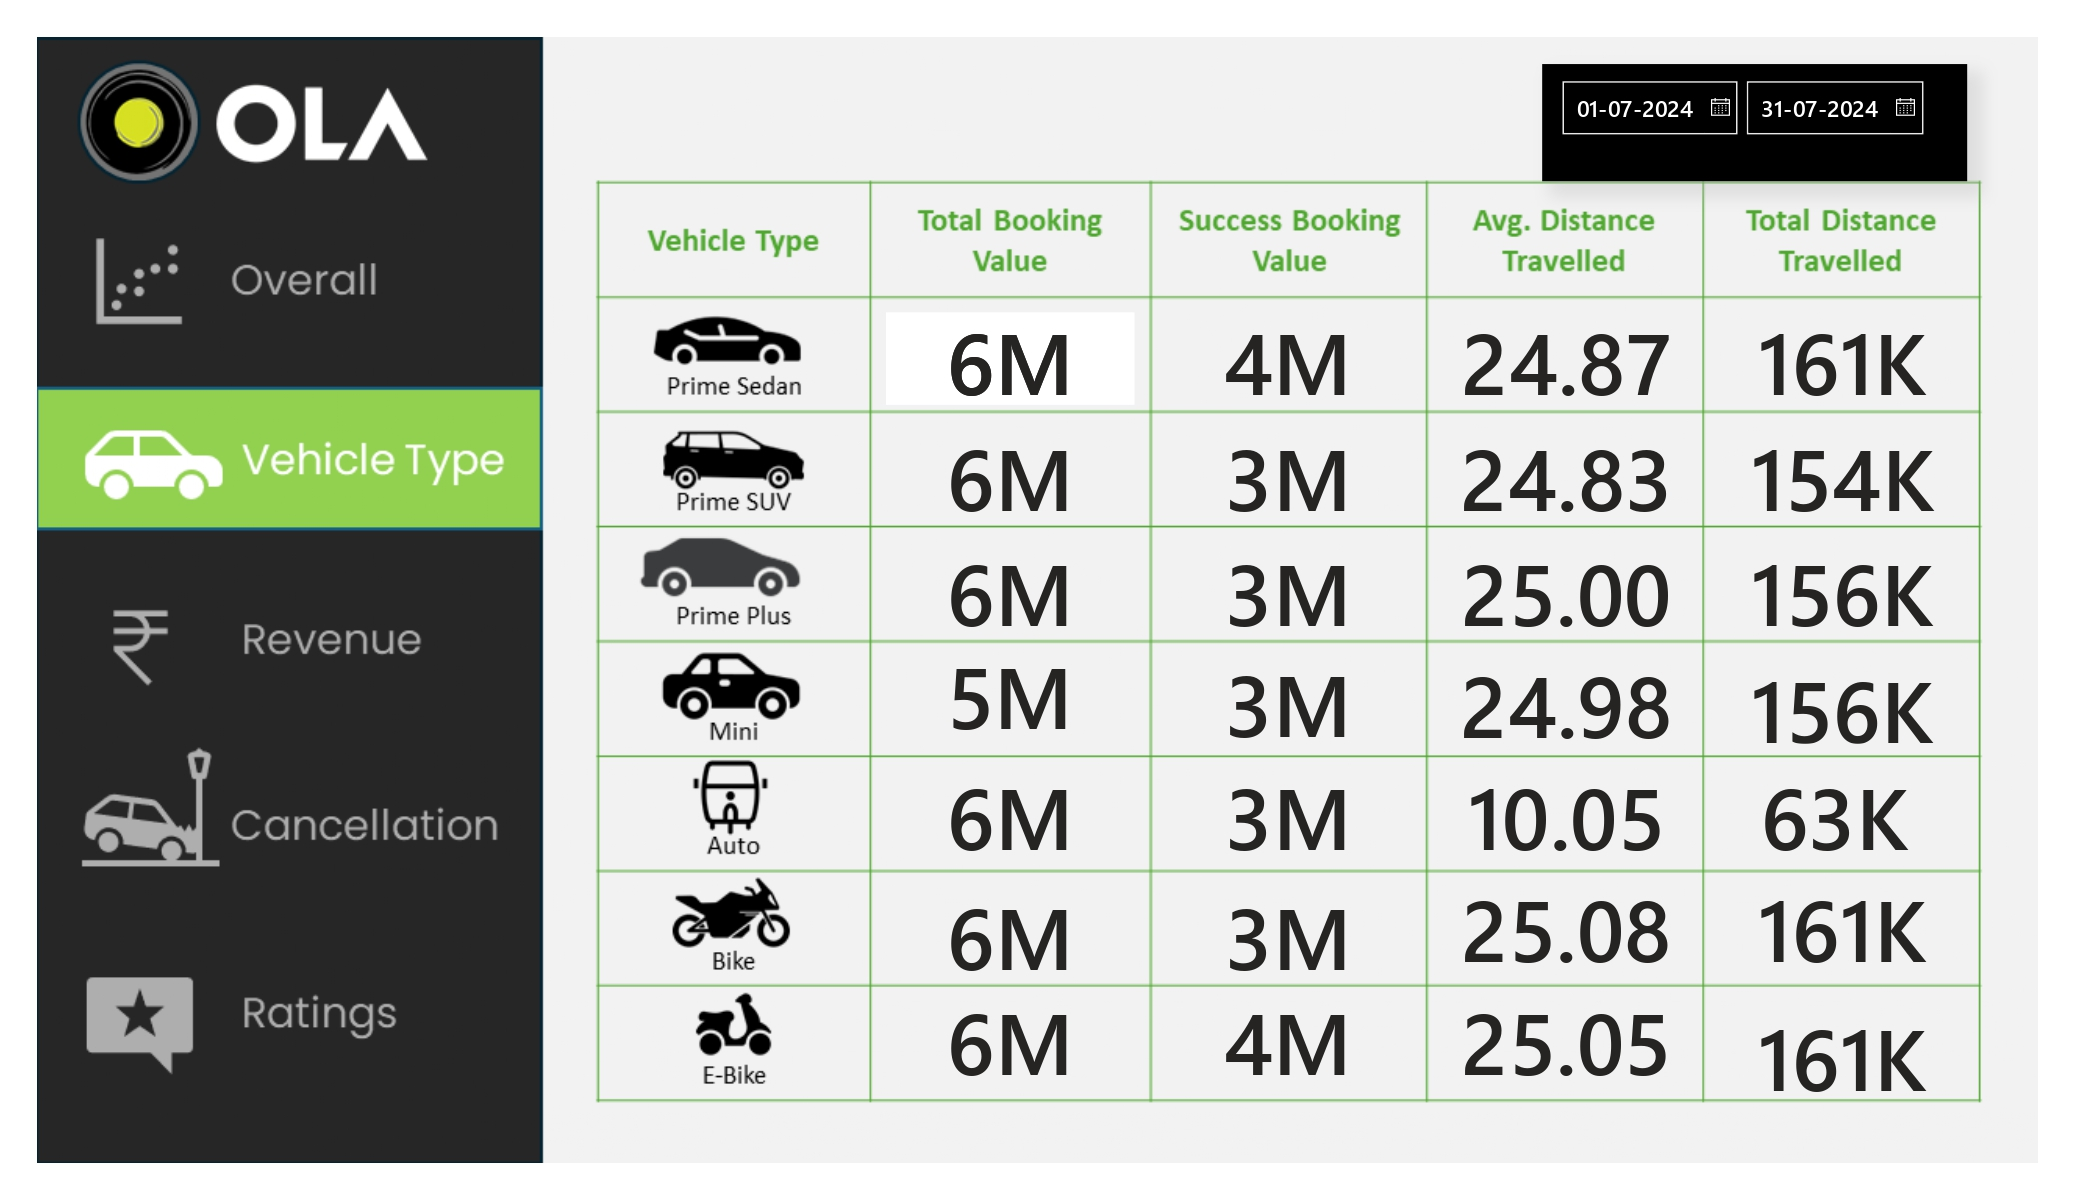

Layout of this report page (visuals, bound fields, positions):
{"tool":"powerbi","page":{"name":"Vehicle_type","canvas":[1280,720],"ordinal":1},"visuals":[{"type":"actionButton","box":[0,218.6,324.3,90],"z":0},{"type":"actionButton","box":[0,111.4,324.3,85.7],"z":1000},{"type":"actionButton","box":[0,580,324.3,90],"z":2000},{"type":"actionButton","box":[0,112,324.6,85],"z":3000},{"type":"actionButton","box":[0,342.9,324.3,90],"z":4000},{"type":"actionButton","box":[0,452.9,324.3,90],"z":5000},{"type":"actionButton","box":[10,590,324.3,90],"z":6000},{"type":"actionButton","box":[0,223.9,324.6,85],"z":7000},{"type":"actionButton","box":[0,447.9,324.6,90.7],"z":8000},{"type":"actionButton","box":[10,121.4,324.3,85.7],"z":9000},{"type":"actionButton","box":[0,337.3,324.6,90.7],"z":10000},{"type":"actionButton","box":[10,462.9,324.3,90],"z":11000},{"type":"actionButton","box":[0,594.3,324.3,90],"z":12000},{"type":"card","fields":{"Values":["Sum(Bookings.Booking_Value)"]},"box":[542.6,176.4,159.6,58.8],"z":13000},{"type":"card","fields":{"Values":["Sum(Bookings.Booking_Value)"]},"box":[542.6,176.4,159.6,58.8],"z":14000},{"type":"card","fields":{"Values":["Sum(Bookings.Booking_Value)"]},"box":[542.6,176.4,159.6,58.8],"z":15000},{"type":"card","fields":{"Values":["Sum(Bookings.Booking_Value)"]},"box":[542.6,389.7,159.6,58.8],"z":16000},{"type":"card","fields":{"Values":["Sum(Bookings.Booking_Value)"]},"box":[542.6,250.3,159.6,58.8],"z":17000},{"type":"card","fields":{"Values":["Sum(Bookings.Booking_Value)"]},"box":[542.6,324.2,159.6,58.8],"z":18000},{"type":"card","fields":{"Values":["Sum(Bookings.Booking_Value)"]},"box":[542.6,467,159.6,58.8],"z":19000},{"type":"card","fields":{"Values":["Sum(Bookings.Booking_Value)"]},"box":[542.6,544.3,159.6,58.8],"z":20000},{"type":"card","fields":{"Values":["Sum(Bookings.Booking_Value)"]},"box":[542.6,611.4,159.6,58.8],"z":21000},{"type":"card","fields":{"Values":["Sum(Bookings.Booking_Value)"]},"box":[720.6,176.4,159.6,58.8],"z":22000},{"type":"card","fields":{"Values":["Sum(Bookings.Booking_Value)"]},"box":[720.6,250.3,159.6,58.8],"z":23000},{"type":"card","fields":{"Values":["Sum(Bookings.Booking_Value)"]},"box":[720.6,324.2,159.6,58.8],"z":24000},{"type":"card","fields":{"Values":["Sum(Bookings.Booking_Value)"]},"box":[720.6,394.8,159.6,58.8],"z":25000},{"type":"card","fields":{"Values":["Sum(Bookings.Booking_Value)"]},"box":[720.6,467,159.6,58.8],"z":26000},{"type":"card","fields":{"Values":["Sum(Bookings.Booking_Value)"]},"box":[720.6,544.3,159.6,58.8],"z":27000},{"type":"card","fields":{"Values":["Sum(Bookings.Booking_Value)"]},"box":[720.6,611.4,159.6,58.8],"z":28000},{"type":"card","fields":{"Values":["Avg(Bookings.Ride_Distance)"]},"box":[898.7,324.2,159.6,58.8],"z":29000},{"type":"card","fields":{"Values":["Avg(Bookings.Ride_Distance)"]},"box":[898.7,250.3,159.6,58.8],"z":30000},{"type":"card","fields":{"Values":["Avg(Bookings.Ride_Distance)"]},"box":[898.7,176.4,159.6,58.8],"z":31000},{"type":"card","fields":{"Values":["Avg(Bookings.Ride_Distance)"]},"box":[898.7,396.4,159.6,57.1],"z":32000},{"type":"card","fields":{"Values":["Avg(Bookings.Ride_Distance)"]},"box":[898.7,467,159.6,58.8],"z":33000},{"type":"card","fields":{"Values":["Avg(Bookings.Ride_Distance)"]},"box":[898.7,539.2,159.6,58.8],"z":34000},{"type":"card","fields":{"Values":["Avg(Bookings.Ride_Distance)"]},"box":[898.7,611.4,159.6,58.8],"z":35000},{"type":"card","fields":{"Values":["Sum(Bookings.Ride_Distance)"]},"box":[1075.1,176.4,159.6,58.8],"z":36000},{"type":"card","fields":{"Values":["Sum(Bookings.Ride_Distance)"]},"box":[1075.1,250.3,159.6,58.8],"z":37000},{"type":"card","fields":{"Values":["Sum(Bookings.Ride_Distance)"]},"box":[1075.1,324.2,159.6,58.8],"z":38000},{"type":"card","fields":{"Values":["Sum(Bookings.Ride_Distance)"]},"box":[1075.1,399.8,159.6,57.1],"z":39000},{"type":"card","fields":{"Values":["Sum(Bookings.Ride_Distance)"]},"box":[1070,467,159.6,58.8],"z":40000},{"type":"card","fields":{"Values":["Sum(Bookings.Ride_Distance)"]},"box":[1075.1,539.2,159.6,58.8],"z":41000},{"type":"card","fields":{"Values":["Sum(Bookings.Ride_Distance)"]},"box":[1075.1,621.5,159.6,58.8],"z":42000},{"type":"slicer","title":"Date","fields":{"Values":["Bookings.Date"]},"box":[962.5,16.8,272.1,75.6],"z":43000}]}

Visuals, with their boxes on the page's 1280x720 design canvas (x1, y1, x2, y2). These are canvas units, not pixel positions in the 2075x1200 screenshot, which may show the page scaled, cropped or inside an application window:
actionButton: left=0, top=219, right=324, bottom=309
actionButton: left=0, top=111, right=324, bottom=197
actionButton: left=0, top=580, right=324, bottom=670
actionButton: left=0, top=112, right=325, bottom=197
actionButton: left=0, top=343, right=324, bottom=433
actionButton: left=0, top=453, right=324, bottom=543
actionButton: left=10, top=590, right=334, bottom=680
actionButton: left=0, top=224, right=325, bottom=309
actionButton: left=0, top=448, right=325, bottom=539
actionButton: left=10, top=121, right=334, bottom=207
actionButton: left=0, top=337, right=325, bottom=428
actionButton: left=10, top=463, right=334, bottom=553
actionButton: left=0, top=594, right=324, bottom=684
card - Sum(Bookings.Booking_Value): left=543, top=176, right=702, bottom=235
card - Sum(Bookings.Booking_Value): left=543, top=176, right=702, bottom=235
card - Sum(Bookings.Booking_Value): left=543, top=176, right=702, bottom=235
card - Sum(Bookings.Booking_Value): left=543, top=390, right=702, bottom=448
card - Sum(Bookings.Booking_Value): left=543, top=250, right=702, bottom=309
card - Sum(Bookings.Booking_Value): left=543, top=324, right=702, bottom=383
card - Sum(Bookings.Booking_Value): left=543, top=467, right=702, bottom=526
card - Sum(Bookings.Booking_Value): left=543, top=544, right=702, bottom=603
card - Sum(Bookings.Booking_Value): left=543, top=611, right=702, bottom=670
card - Sum(Bookings.Booking_Value): left=721, top=176, right=880, bottom=235
card - Sum(Bookings.Booking_Value): left=721, top=250, right=880, bottom=309
card - Sum(Bookings.Booking_Value): left=721, top=324, right=880, bottom=383
card - Sum(Bookings.Booking_Value): left=721, top=395, right=880, bottom=454
card - Sum(Bookings.Booking_Value): left=721, top=467, right=880, bottom=526
card - Sum(Bookings.Booking_Value): left=721, top=544, right=880, bottom=603
card - Sum(Bookings.Booking_Value): left=721, top=611, right=880, bottom=670
card - Avg(Bookings.Ride_Distance): left=899, top=324, right=1058, bottom=383
card - Avg(Bookings.Ride_Distance): left=899, top=250, right=1058, bottom=309
card - Avg(Bookings.Ride_Distance): left=899, top=176, right=1058, bottom=235
card - Avg(Bookings.Ride_Distance): left=899, top=396, right=1058, bottom=454
card - Avg(Bookings.Ride_Distance): left=899, top=467, right=1058, bottom=526
card - Avg(Bookings.Ride_Distance): left=899, top=539, right=1058, bottom=598
card - Avg(Bookings.Ride_Distance): left=899, top=611, right=1058, bottom=670
card - Sum(Bookings.Ride_Distance): left=1075, top=176, right=1235, bottom=235
card - Sum(Bookings.Ride_Distance): left=1075, top=250, right=1235, bottom=309
card - Sum(Bookings.Ride_Distance): left=1075, top=324, right=1235, bottom=383
card - Sum(Bookings.Ride_Distance): left=1075, top=400, right=1235, bottom=457
card - Sum(Bookings.Ride_Distance): left=1070, top=467, right=1230, bottom=526
card - Sum(Bookings.Ride_Distance): left=1075, top=539, right=1235, bottom=598
card - Sum(Bookings.Ride_Distance): left=1075, top=622, right=1235, bottom=680
"Date" slicer: left=962, top=17, right=1235, bottom=92
